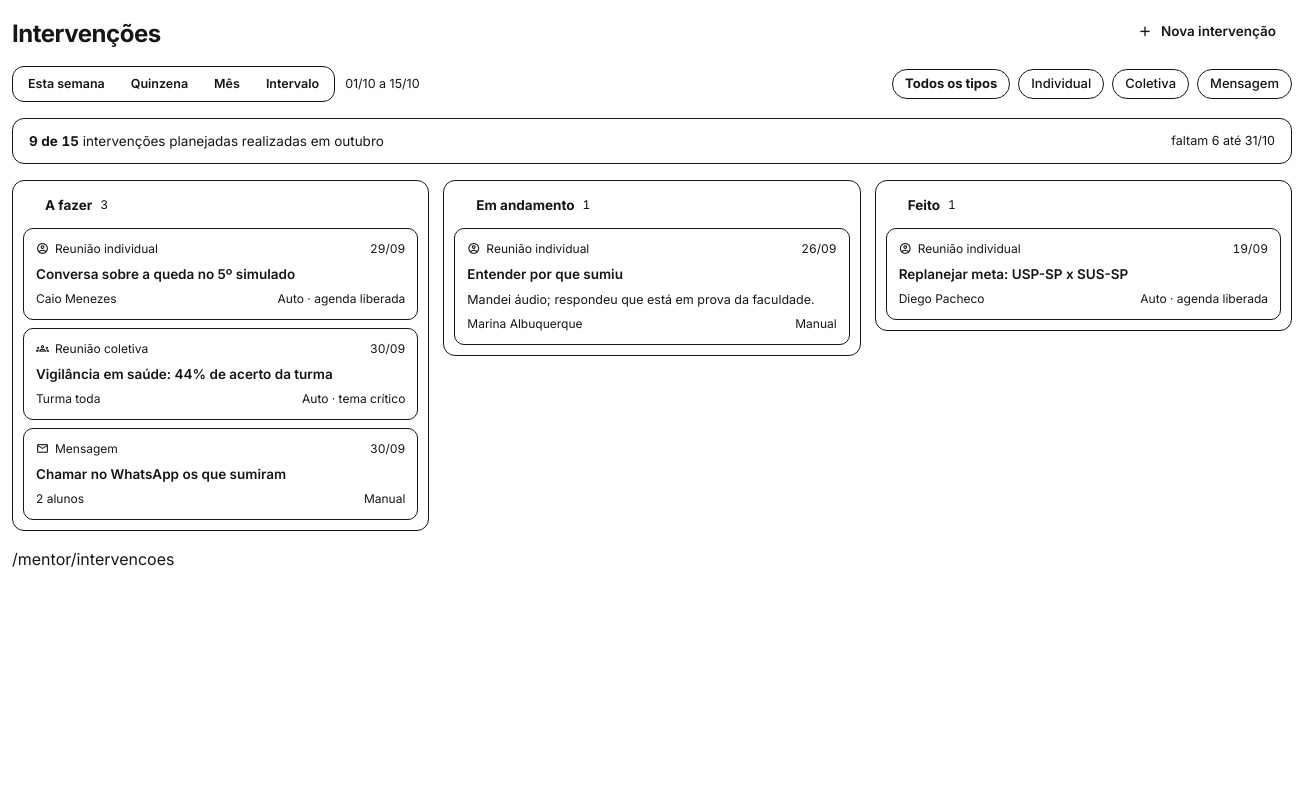
Scenario: Intervenções · kanban B2C › consulta o quadro pelo período e o medidor pelo mês
Click the tab "Esta semana": click(66, 84) top-left (16, 70), bottom-right (117, 98)
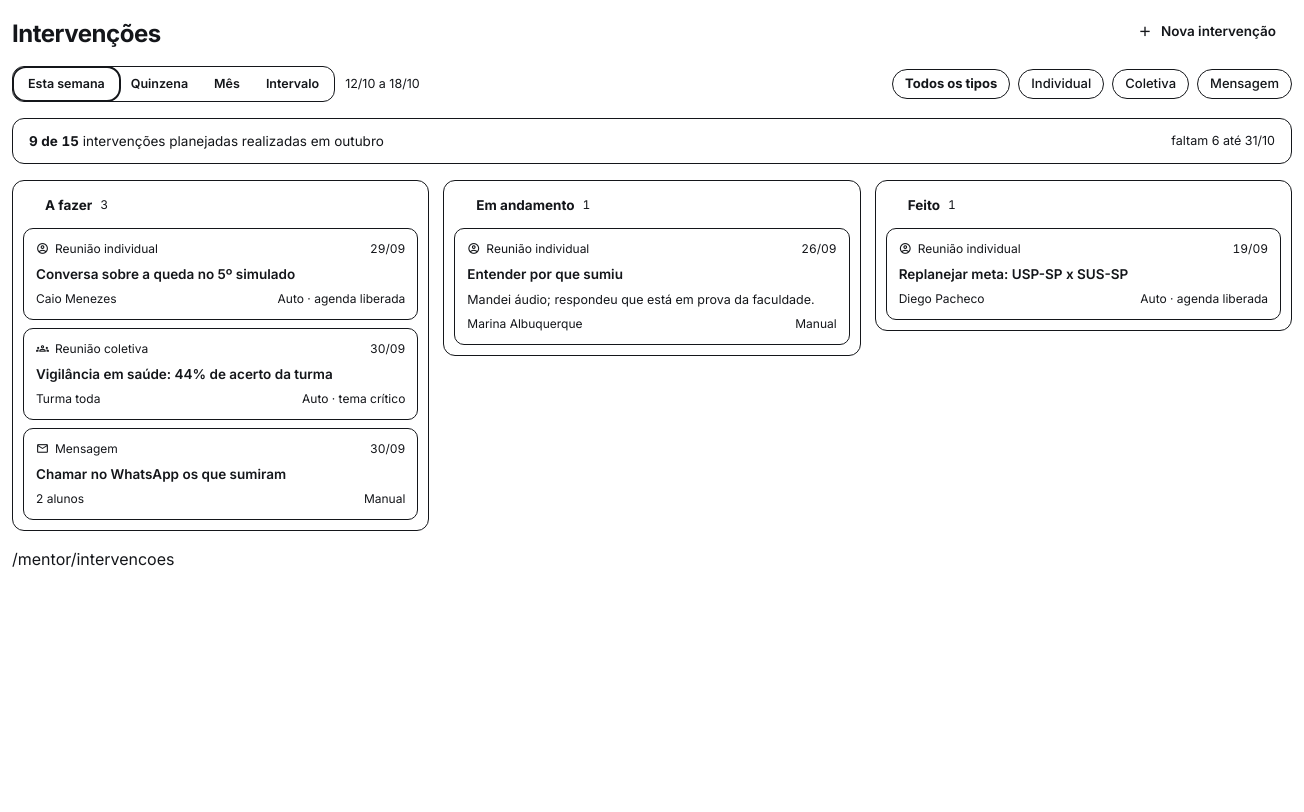
Check: the text "12/10 a 18/10" is shown, box top-left (345, 75), bottom-right (420, 93)
Click the tab "Mês": click(227, 84) top-left (202, 70), bottom-right (252, 98)
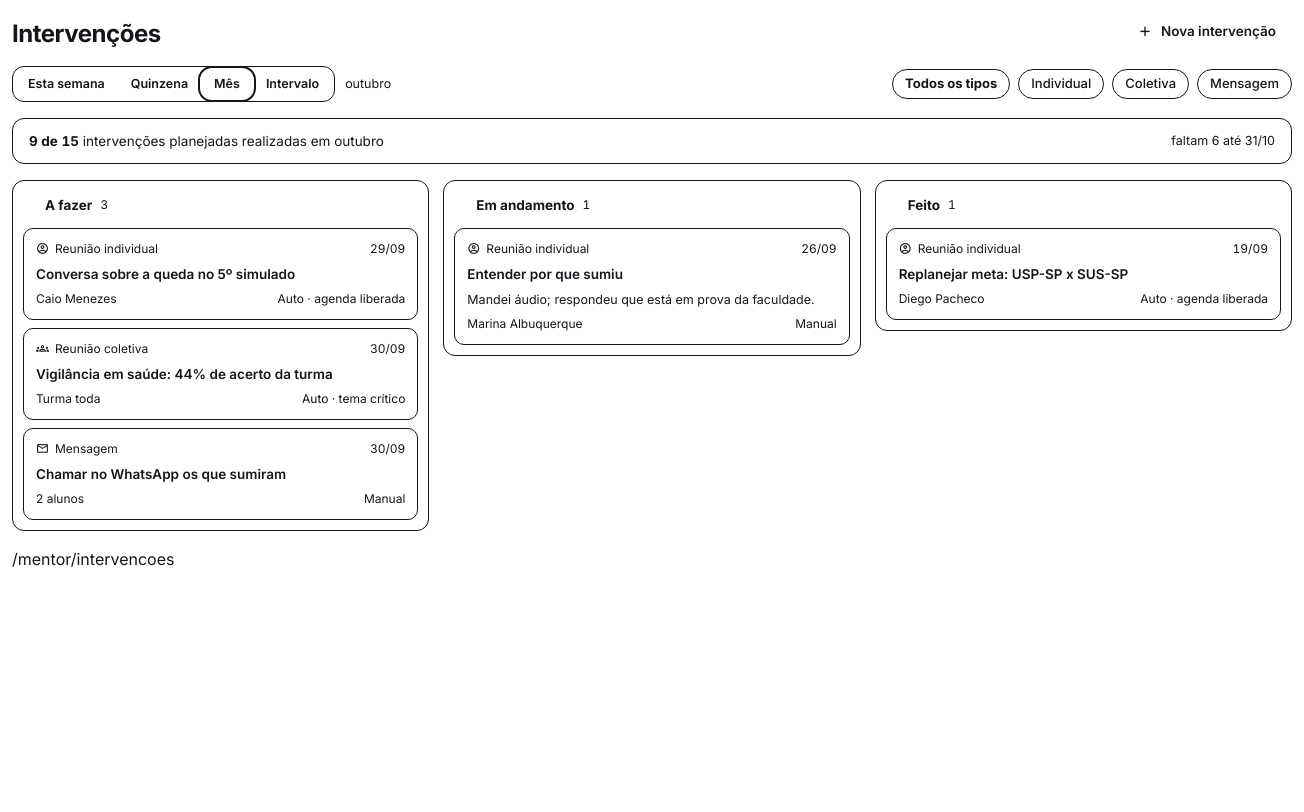
Check: the text "outubro" is shown, box top-left (345, 75), bottom-right (391, 93)
